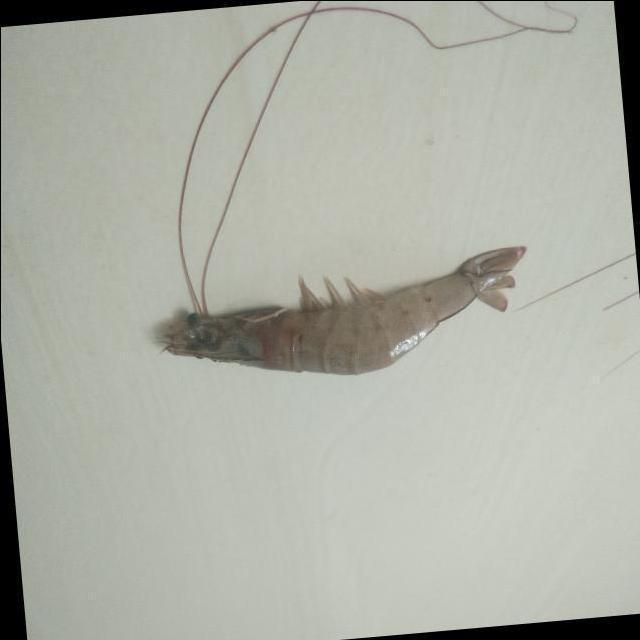shrimp: (164, 246, 526, 375)
